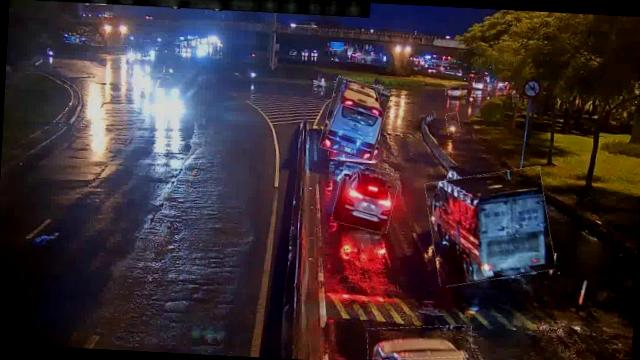Bike: (446, 112, 460, 136)
Bus: (322, 78, 388, 159)
Car: (332, 165, 398, 232), (366, 322, 473, 360), (446, 82, 468, 98)
Truck: (424, 166, 556, 286)
